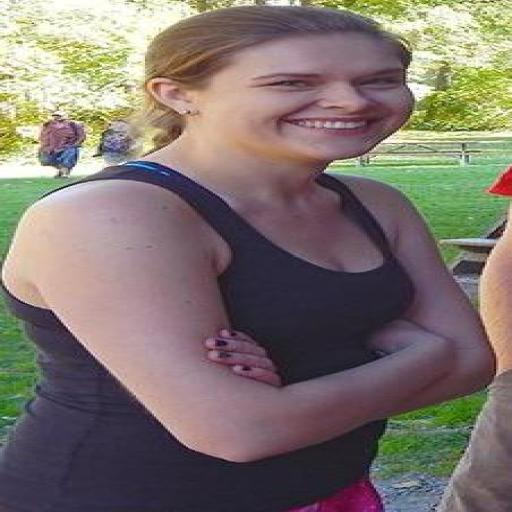person: (0, 7, 491, 511), (438, 221, 511, 511), (39, 111, 86, 177), (96, 120, 138, 165)
